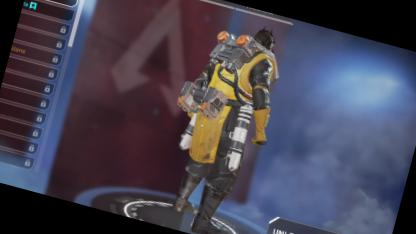Target: (162, 13, 292, 192)
